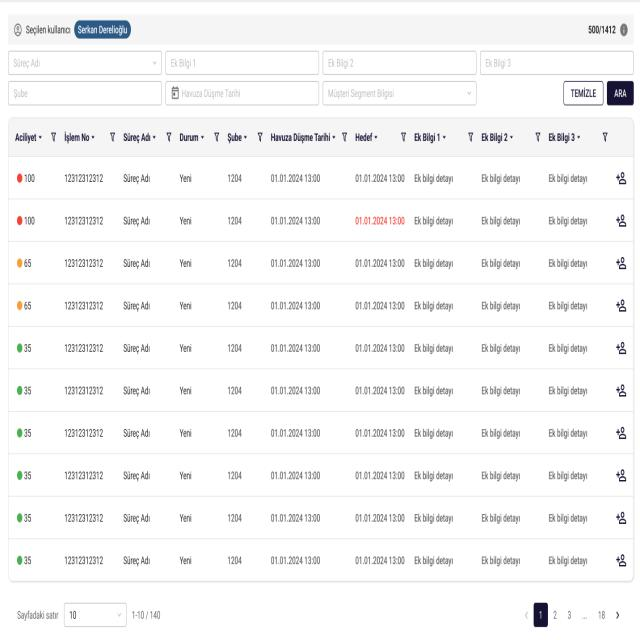QLabel: (78, 25, 128, 36), (26, 24, 70, 36), (588, 24, 616, 35), (570, 87, 596, 98), (614, 88, 628, 98)
VBtn: (563, 80, 604, 106), (607, 80, 634, 106)
VCard: (7, 13, 634, 46)
VChip: (74, 20, 131, 40)
VCombobox: (322, 80, 477, 106), (8, 50, 162, 76)
VDataTable: (6, 114, 636, 630)
VIcon: (13, 22, 22, 36), (620, 23, 628, 37)
VInlineDatepicker: (165, 80, 320, 106)
VTextField: (322, 49, 477, 76), (165, 50, 320, 76), (8, 80, 162, 106), (480, 50, 634, 76)
